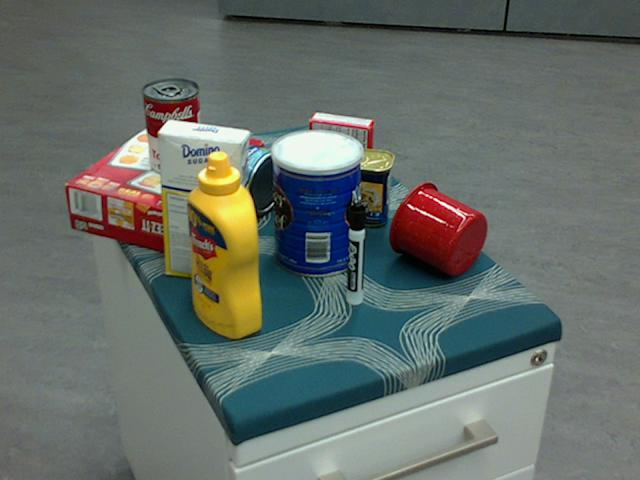cracker_box: (64, 118, 262, 258)
gelatin_box: (309, 112, 374, 174)
large_marker: (347, 202, 365, 305)
master_chef_can: (270, 128, 362, 277)
mug: (389, 181, 488, 275)
mustard_bottle: (188, 151, 260, 339)
potted_meat_can: (310, 145, 393, 225)
sugar_box: (157, 119, 249, 285)
tomato_soup_can: (141, 78, 202, 176)
tuna_fish_can: (224, 144, 284, 214)
